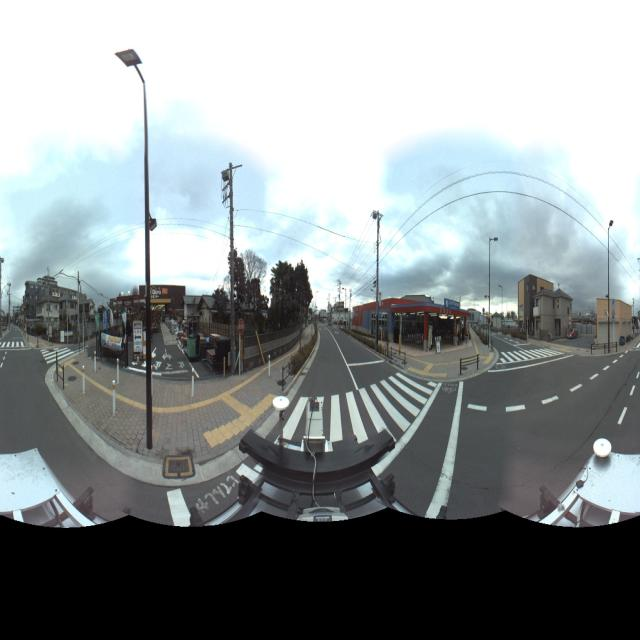b_1: (25, 272, 87, 336), (536, 287, 574, 345), (520, 272, 536, 339)
